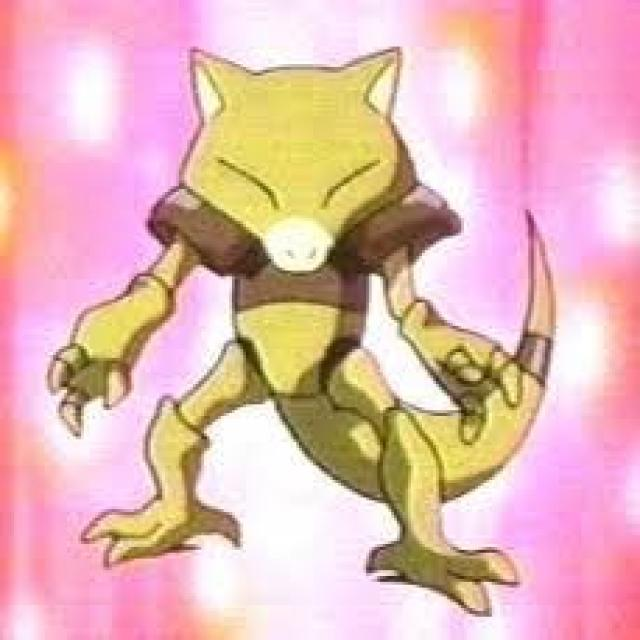Abra: (150, 40, 463, 579)
